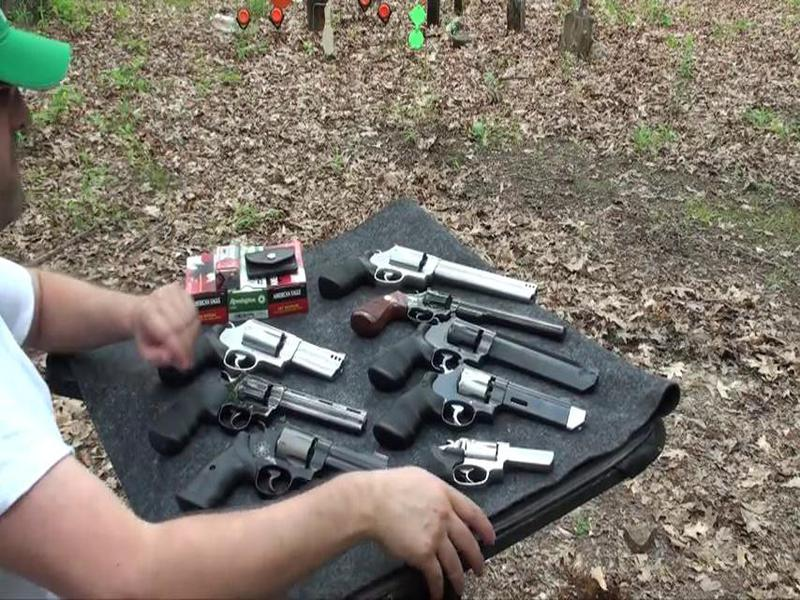Revolver: (355, 316, 603, 399)
